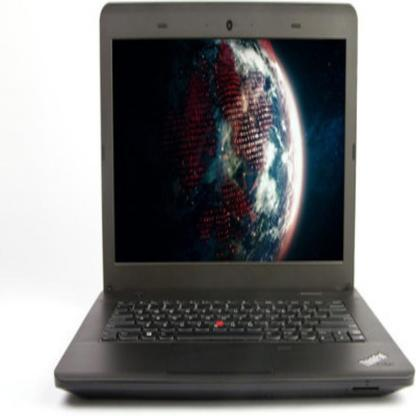board: (53, 0, 413, 406)
